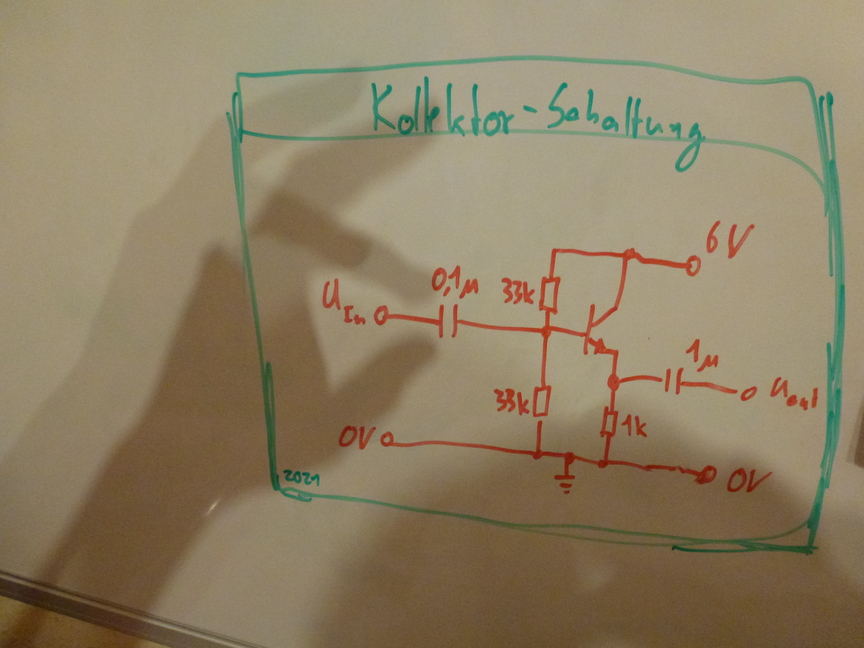capacitor.unpolarized: (429, 302, 468, 341), (658, 366, 689, 396)
gnd: (552, 471, 578, 497)
junction: (616, 243, 638, 266), (605, 370, 624, 393), (595, 455, 613, 472), (530, 447, 545, 465), (540, 322, 554, 341), (561, 449, 576, 466), (547, 244, 561, 257)
resistor: (536, 272, 564, 318), (530, 380, 553, 425), (600, 401, 620, 443)
terminal: (695, 460, 723, 489), (371, 301, 398, 329), (732, 381, 762, 406), (678, 253, 705, 278), (377, 430, 398, 451)
text: (370, 75, 707, 174), (319, 274, 369, 329), (768, 375, 824, 415), (704, 218, 756, 261), (428, 263, 483, 300), (725, 466, 772, 498), (685, 335, 721, 374), (491, 385, 532, 418), (498, 275, 536, 307), (337, 423, 376, 451), (280, 467, 322, 489), (621, 412, 650, 441)
transistor: (580, 300, 623, 361)
